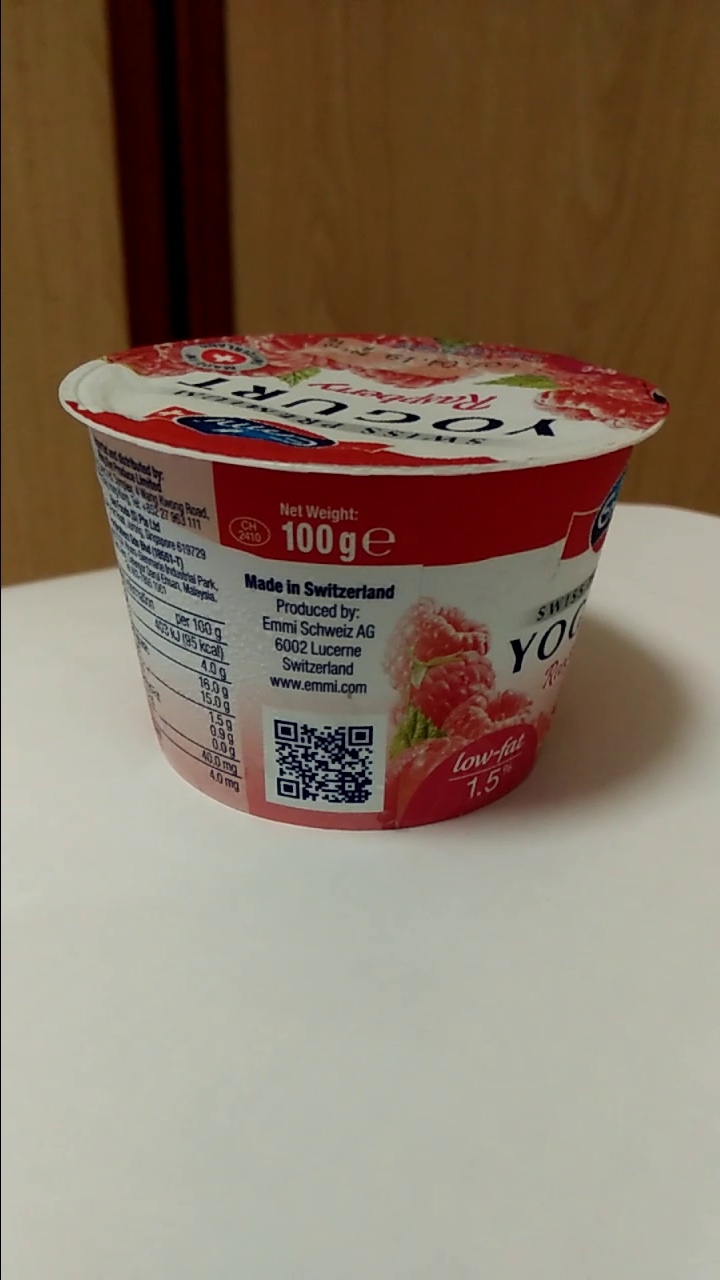yogurt: (64, 323, 660, 827)
